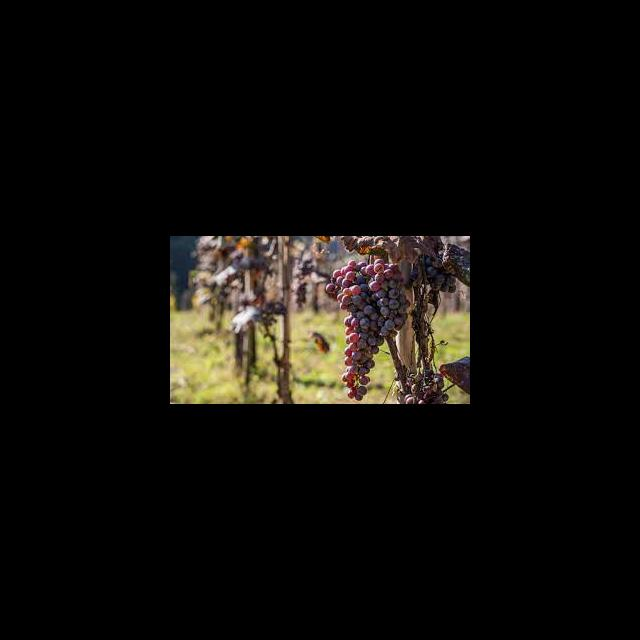grape: (325, 257, 410, 400)
